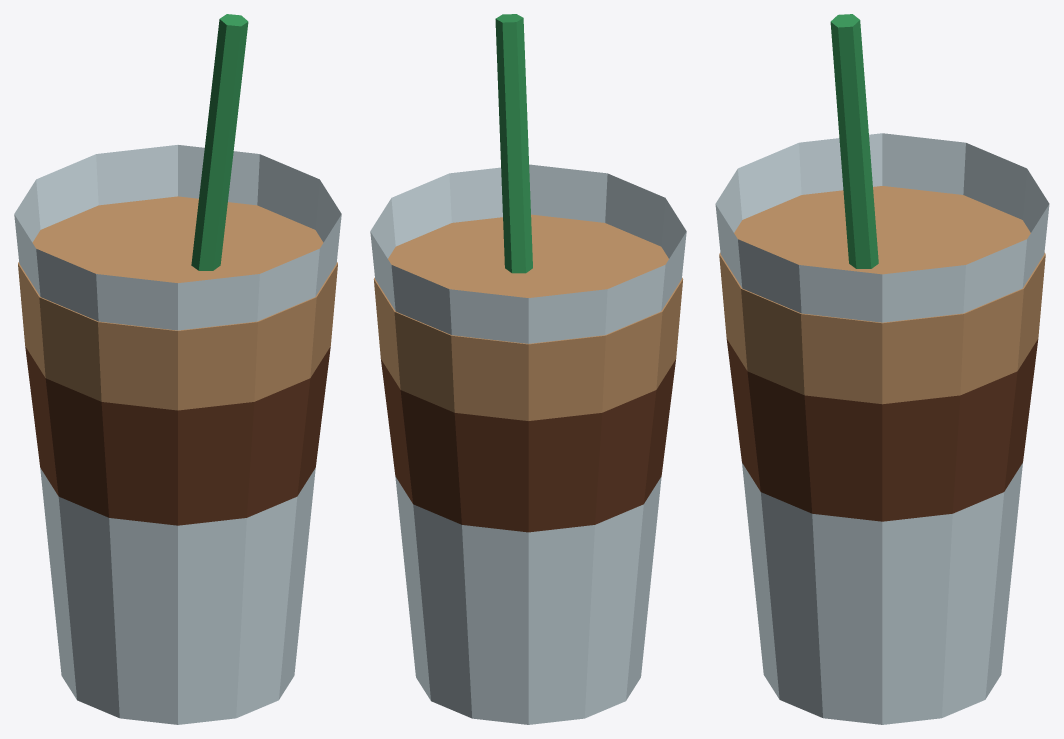
The model's file is PRP_IcedCoffee.fbx.
3 renders of one model, left to right at view 1: azimuth 30°, elevation 25°; view 2: azimuth 150°, elevation 25°; view 3: azimuth 270°, elevation 25°, orthographic. The views are drawn at different scales.
Visible parts, largest first — view 1: PRP_IcedCoffee; view 2: PRP_IcedCoffee; view 3: PRP_IcedCoffee.
Boxes of the visible parts, x1,y1,x2,y2 form: PRP_IcedCoffee: (14, 14, 341, 724); PRP_IcedCoffee: (370, 14, 686, 724); PRP_IcedCoffee: (715, 14, 1049, 724).
Size of the model in its own units: 0.09 by 0.2004 by 0.09.
